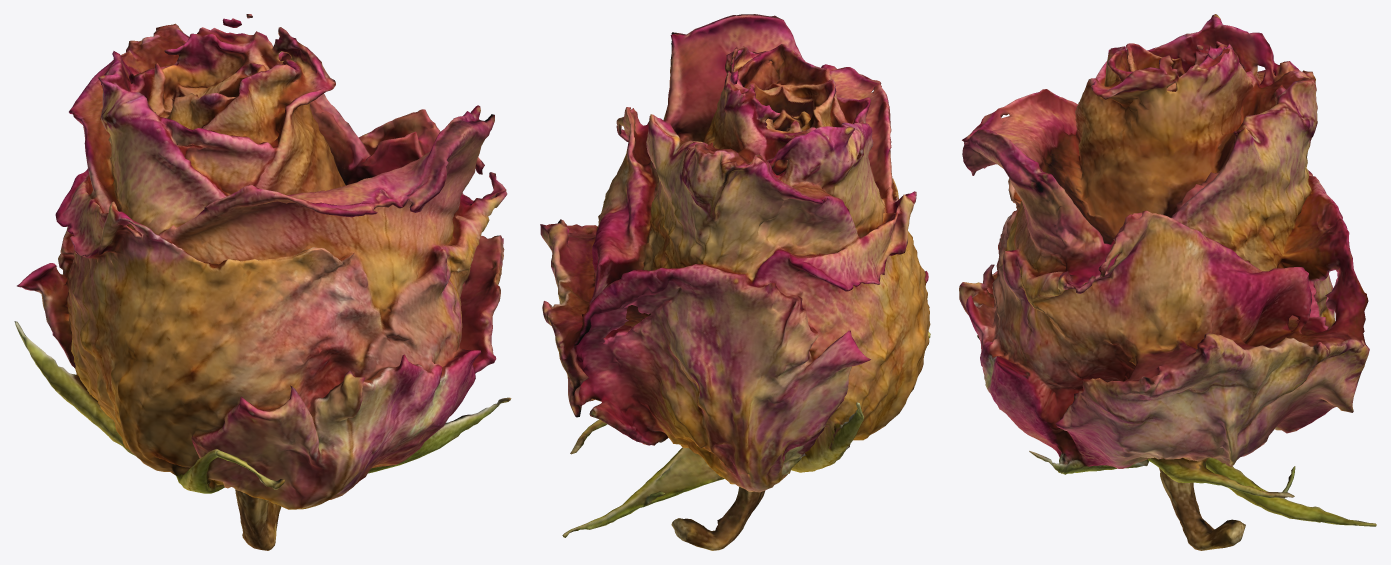
Rendered from kwiatek6.2.glb.
3 renders of one model, left to right at view 1: azimuth 30°, elevation 25°; view 2: azimuth 150°, elevation 25°; view 3: azimuth 270°, elevation 25°, orthographic. The views are drawn at different scales.
Parts seen in each view (by area): view 1: Object_2; view 2: Object_2; view 3: Object_2.
Part boxes in pixels (x1,y1,x2,y2): Object_2: [14, 14, 511, 550]; Object_2: [540, 14, 930, 550]; Object_2: [959, 14, 1376, 550].
Bounding box in the file's own units: 19.72 × 24.29 × 18.5.
Materials: 1 (1 with a texture image).
